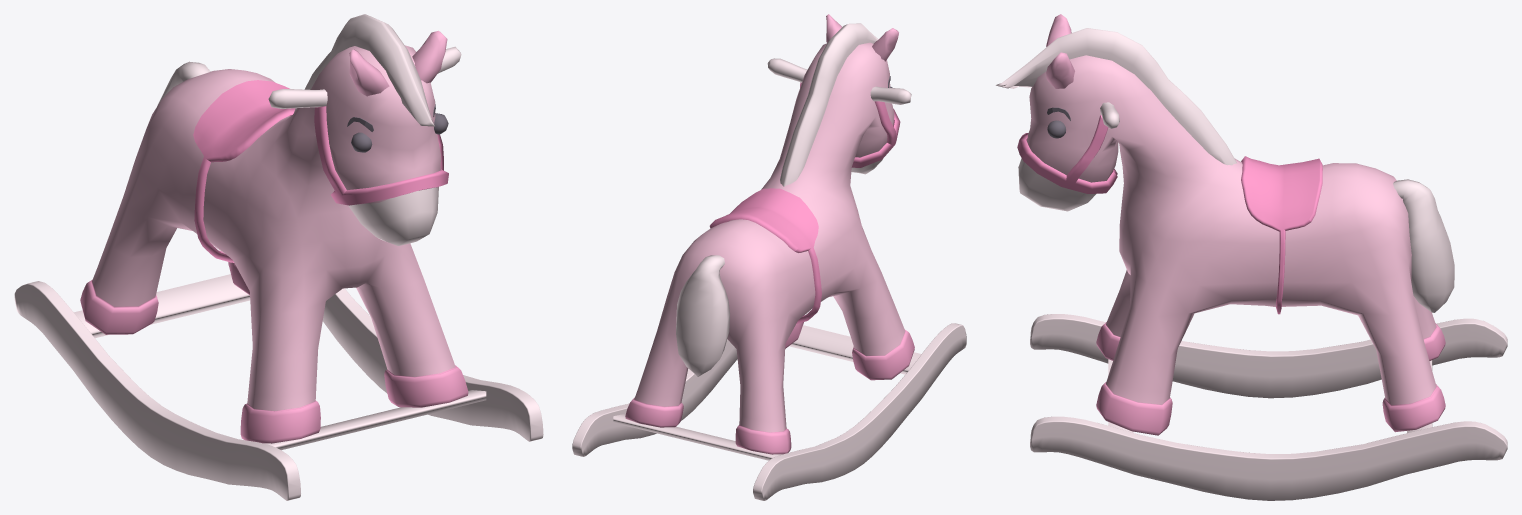
The model's file is Plush_Rocking_Horse.fbx.
3 views of the same model, side by side, from view 1: azimuth 30°, elevation 25°; view 2: azimuth 150°, elevation 25°; view 3: azimuth 270°, elevation 25° (orthographic). The views are drawn at different scales.
Parts seen in each view (by area): view 1: Plush_Rocking_Horse; view 2: Plush_Rocking_Horse; view 3: Plush_Rocking_Horse.
Boxes of the visible parts, x1=… form: Plush_Rocking_Horse: x1=14, y1=14, x2=543, y2=500; Plush_Rocking_Horse: x1=572, y1=14, x2=966, y2=500; Plush_Rocking_Horse: x1=995, y1=14, x2=1507, y2=500.
Bounding box in the file's own units: 12.16 × 22.02 × 24.43.
1 material, 1 textured.
